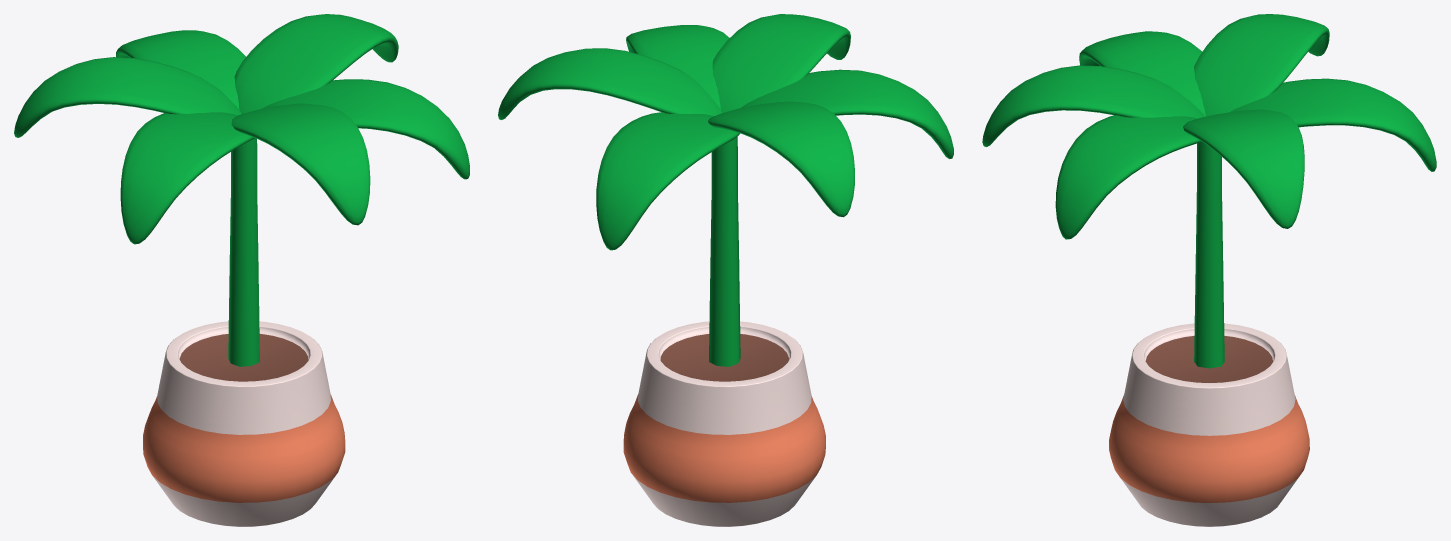
The model's file is Town_19_Plant_2.glb.
The picture shows the model from 3 angles, left to right: view 1: azimuth 30°, elevation 25°; view 2: azimuth 150°, elevation 25°; view 3: azimuth 270°, elevation 25°; orthographic projection.
Parts seen in each view (by area): view 1: Town_19_Plant_2; view 2: Town_19_Plant_2; view 3: Town_19_Plant_2.
Part boxes in pixels (x1,y1,x2,y2): Town_19_Plant_2: (14,14,469,526); Town_19_Plant_2: (498,14,953,526); Town_19_Plant_2: (982,14,1436,526).
Bounding box in the file's own units: 0.954 × 1.07 × 1.04.
Materials: 1 (1 with a texture image).
